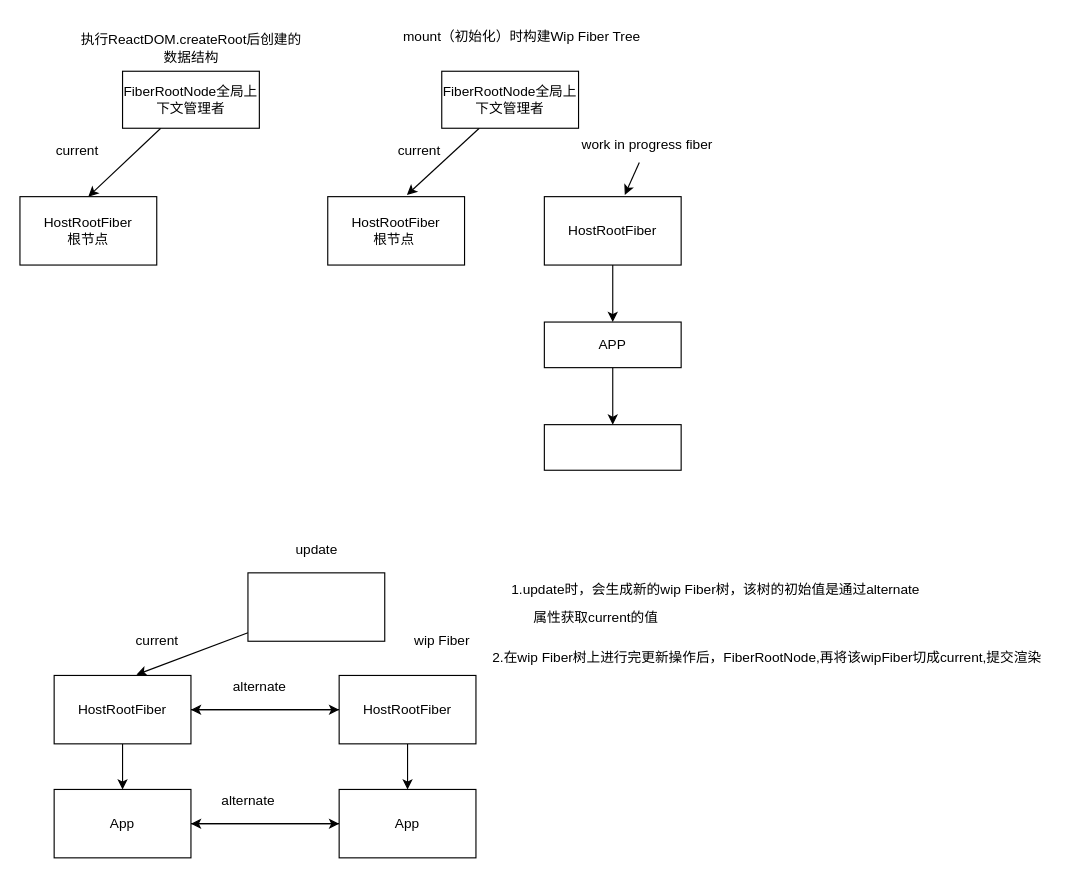
This 1072x878 diagram has some shape labels left out. The centre of each missing label's shape, as x and y in pixels:
Child: the point at 612,447
FiberRootNode: the point at 316,606
